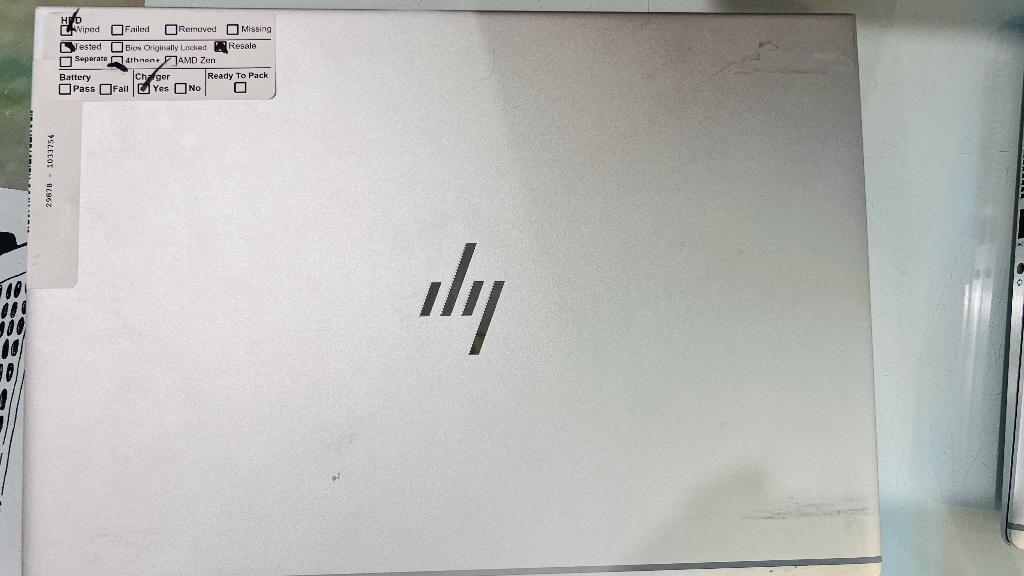scratch: (710, 47, 795, 78), (480, 49, 495, 81), (768, 568, 774, 576)
stain: (742, 494, 880, 530), (729, 65, 839, 77), (758, 40, 780, 49), (851, 34, 856, 68), (749, 54, 761, 61), (332, 472, 340, 482)
